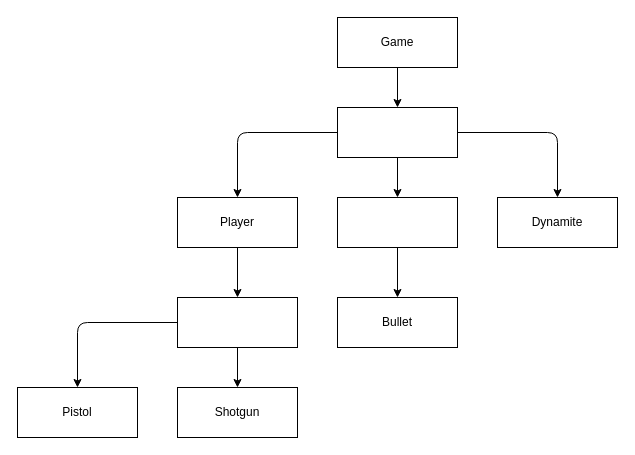
This 635x455 diagram has some shape labels left out. Here are the shapes that lost their labels. From the top down, the centre of each, then its label:
At (x=397, y=132): "Room".
At (x=397, y=222): "Enemy".
At (x=237, y=322): "Weapon".
